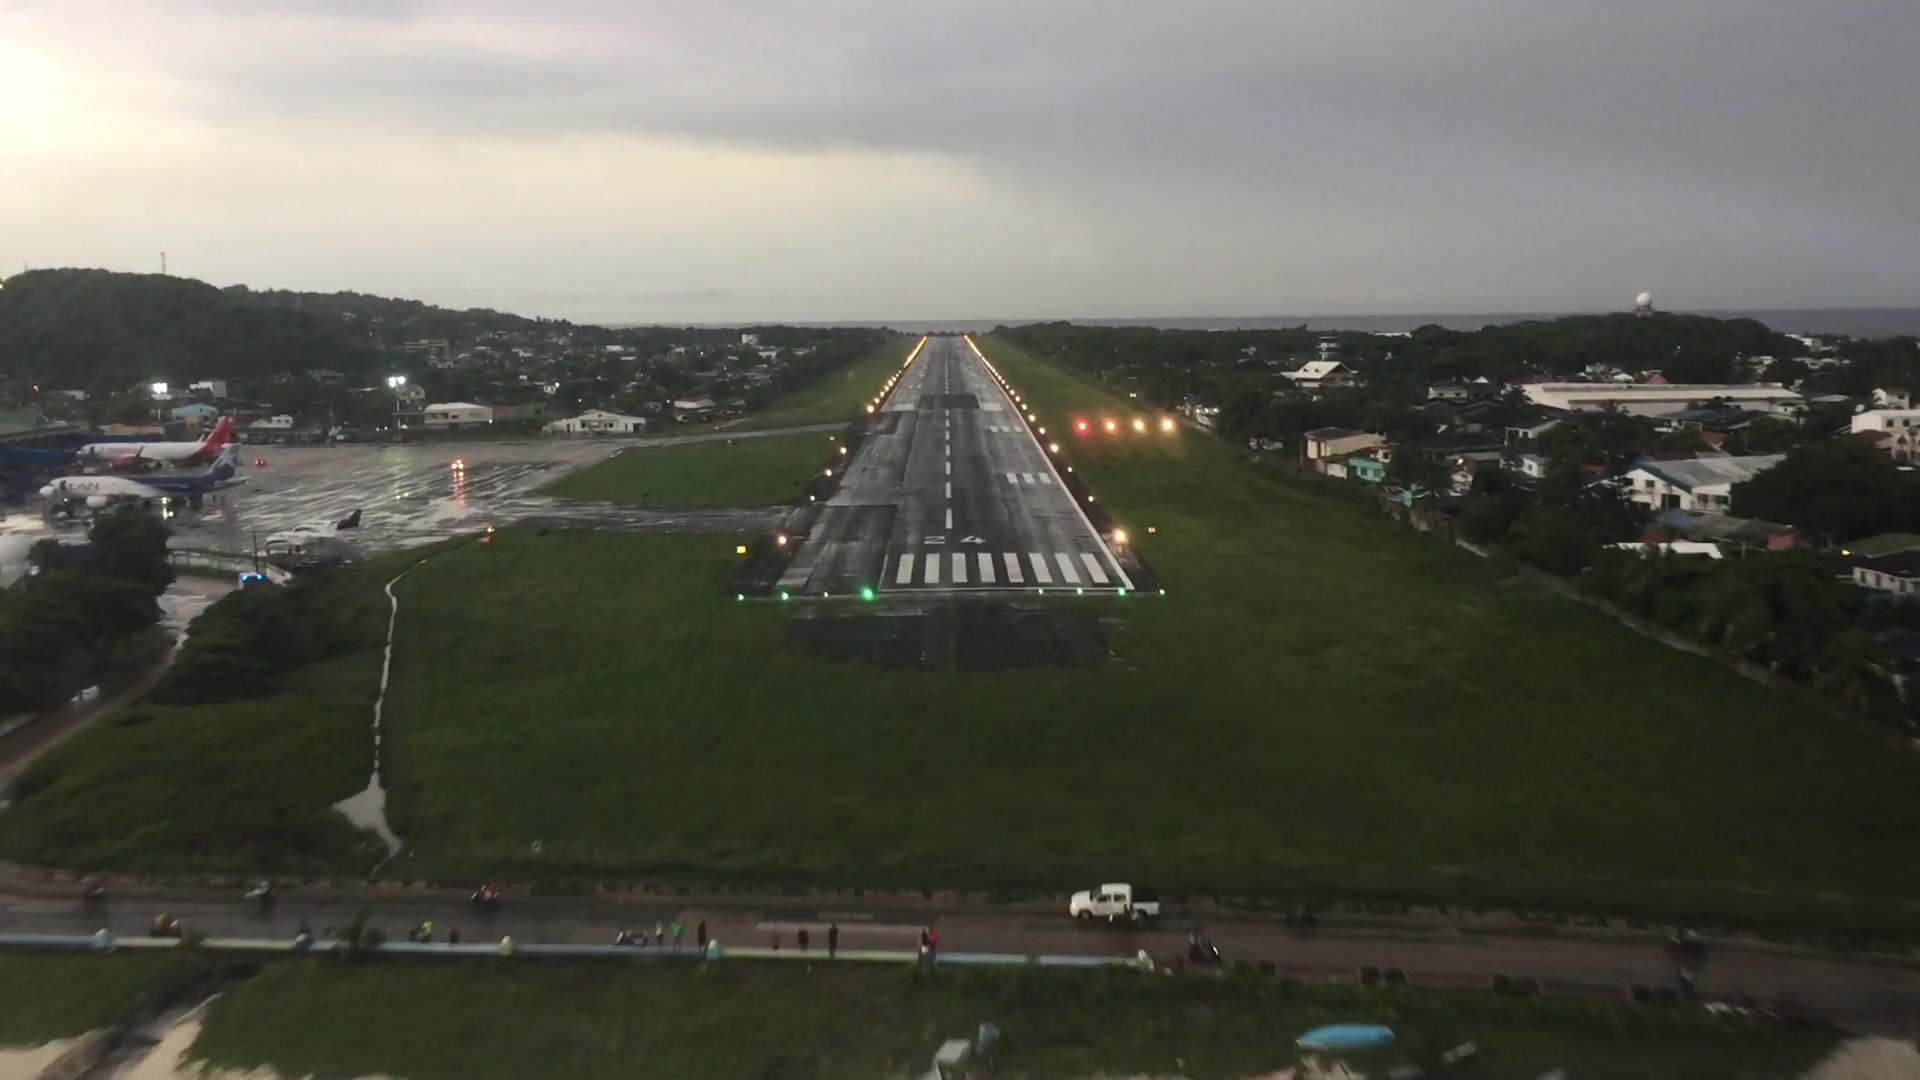entrance: (893, 553, 1113, 583)
runway: (758, 334, 1133, 595)
